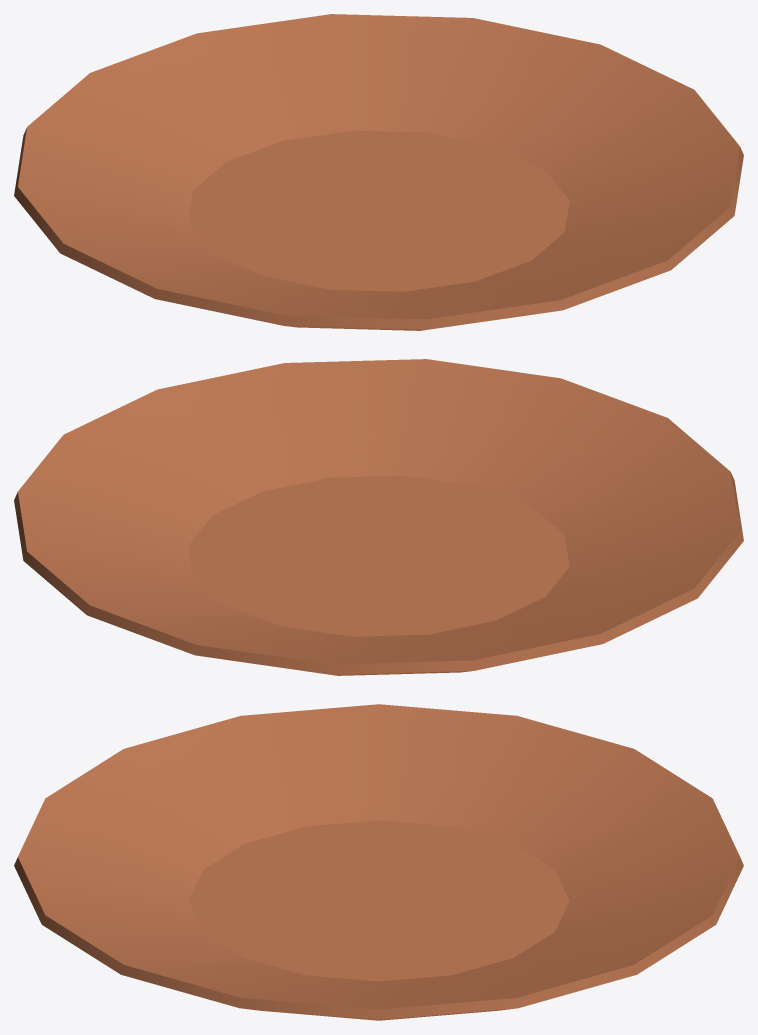
Rendered from obj_plateRound_A.FBX.
The picture shows the model from 3 angles, top to bottom: view 1: azimuth 30°, elevation 25°; view 2: azimuth 150°, elevation 25°; view 3: azimuth 270°, elevation 25°; orthographic projection.
Visible parts, largest first — view 1: obj_plateRound_A; view 2: obj_plateRound_A; view 3: obj_plateRound_A.
Part boxes in pixels (x1,y1,x2,y2): obj_plateRound_A: (14, 14, 743, 330); obj_plateRound_A: (14, 359, 743, 675); obj_plateRound_A: (14, 704, 743, 1020).
Bounding box in the file's own units: 1.33 × 0.1165 × 1.33.
